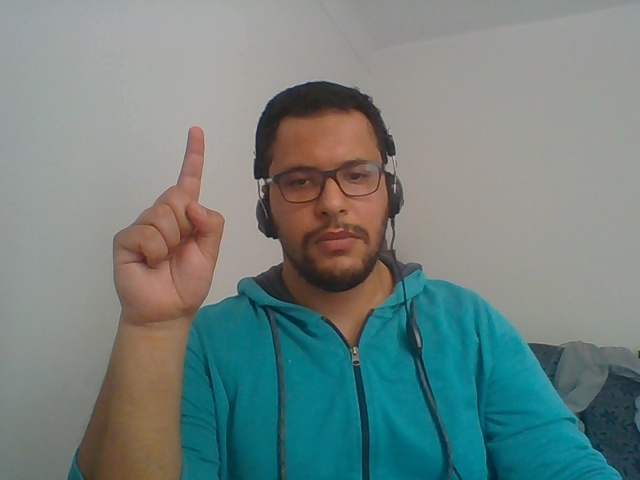handup: (93, 119, 234, 436)
